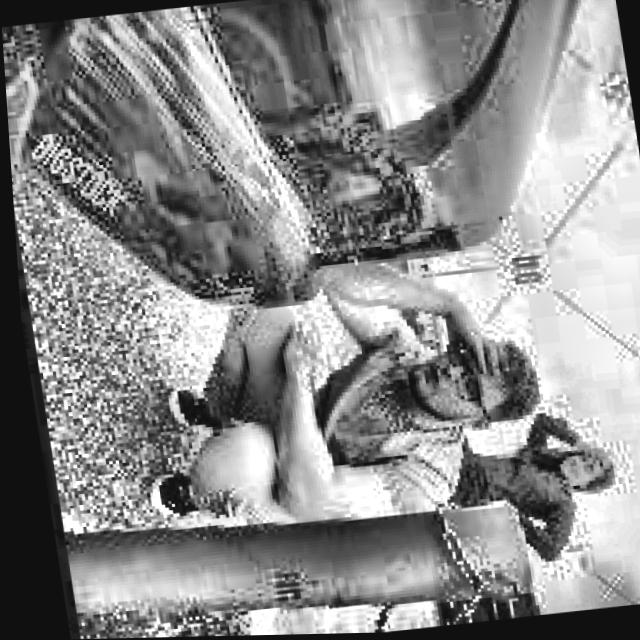door_scratch: (117, 3, 237, 157), (223, 133, 314, 271)
